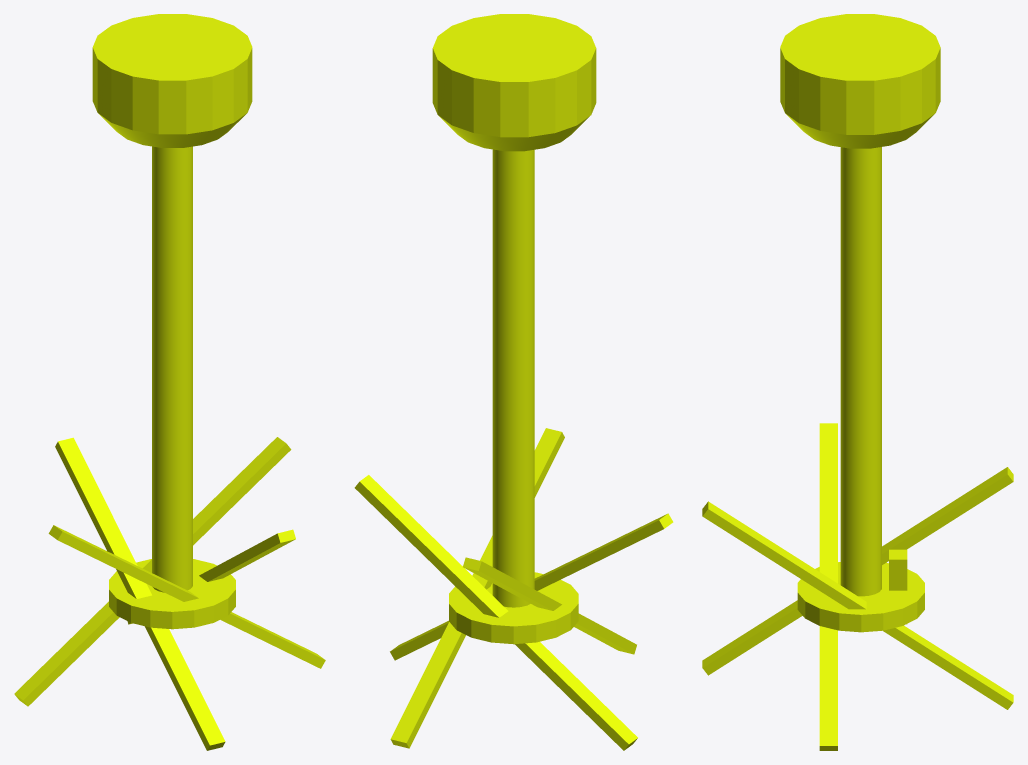
Rendered from Light_6.FBX.
The picture shows the model from 3 angles, left to right: view 1: azimuth 30°, elevation 25°; view 2: azimuth 150°, elevation 25°; view 3: azimuth 270°, elevation 25°; orthographic projection. The views are drawn at different scales.
Visible parts, largest first — view 1: diningroom light; view 2: diningroom light; view 3: diningroom light.
Boxes of the visible parts, x1,y1,x2,y2 form: diningroom light: (14, 14, 325, 750); diningroom light: (354, 14, 673, 750); diningroom light: (702, 14, 1013, 750).
Size of the model in its own units: 0.428 by 0.973 by 0.428.
